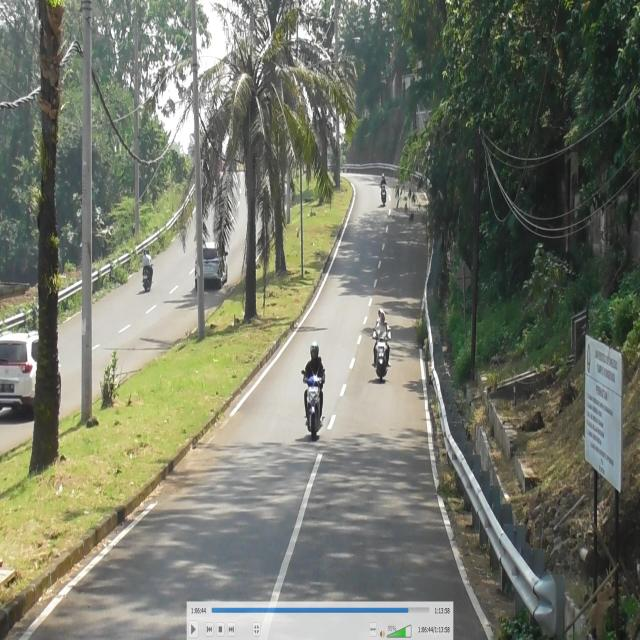motorcycle: (304, 374, 325, 436), (374, 328, 390, 381), (143, 264, 152, 290), (380, 183, 387, 206)
person: (372, 309, 391, 369), (304, 342, 327, 385), (374, 313, 392, 342), (379, 172, 387, 188), (142, 250, 149, 267), (146, 248, 152, 266)
rider_region: (298, 336, 328, 438), (371, 306, 391, 383), (141, 246, 154, 290), (377, 168, 390, 208)
